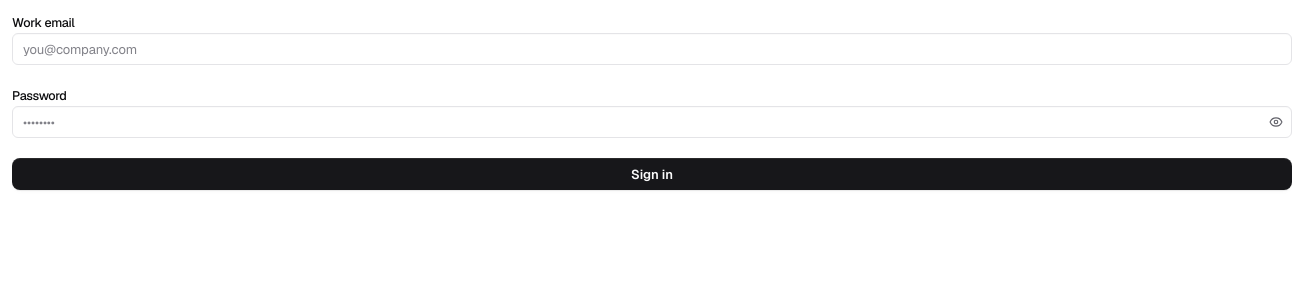
Test: LoginForm › surfaces a server error message inline
The width and height of the screenshot is (1304, 300).
Type "ada@payops.test" into the field labelled "Work email".
click(652, 49); type("ada@payops.test")  # box [12,33,1292,65]
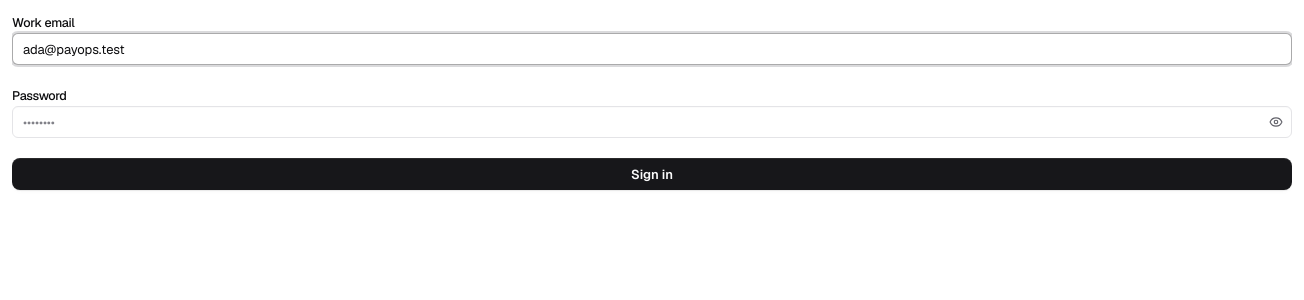
Type "Hunter2!" into the password field labelled "Password".
click(652, 122); type("Hunter2!")  # box [12,106,1292,138]
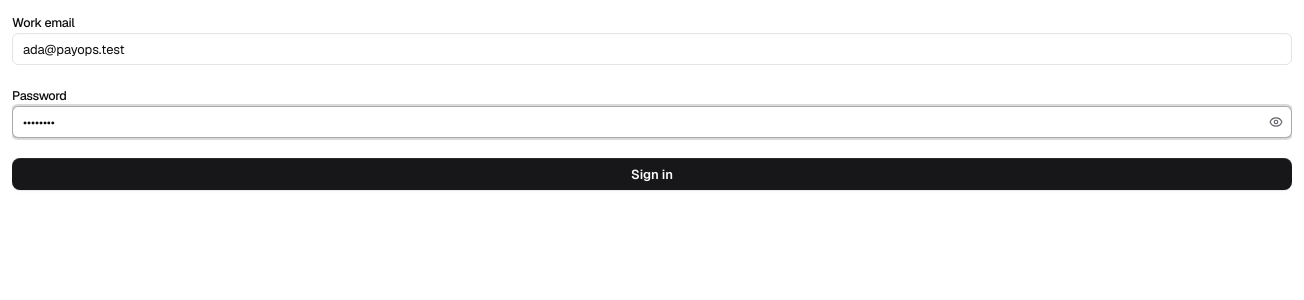
Click the button "Sign in".
click(652, 174)  # box [12,158,1292,190]
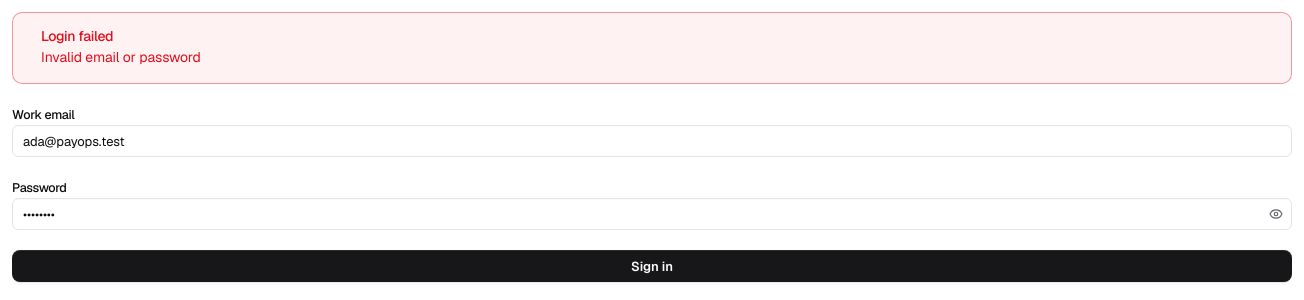
Now the text "Invalid email or password" is shown, box [41,48,201,66]
